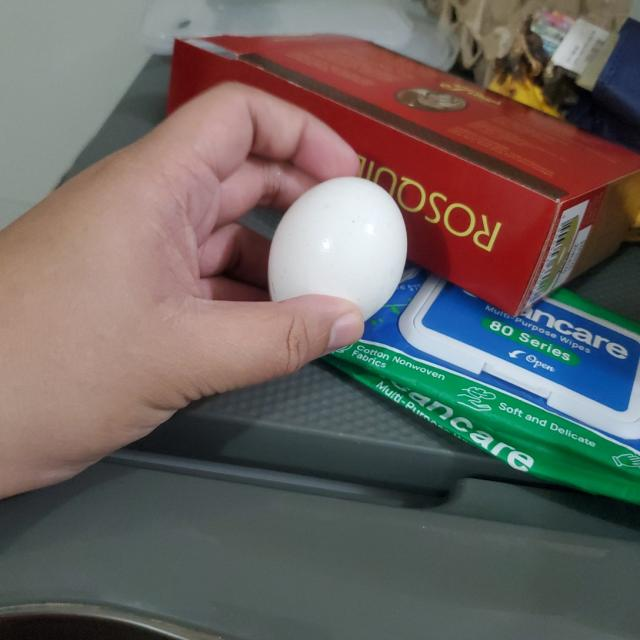egg: (270, 180, 404, 320)
